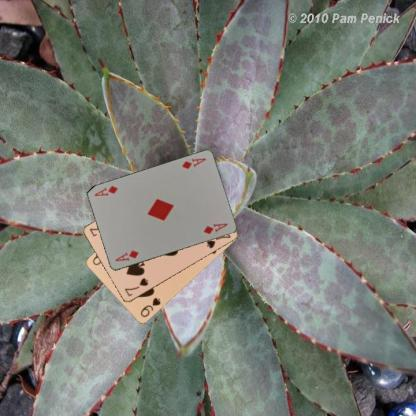7s: (122, 276, 149, 298)
9s: (137, 295, 162, 319)
Ad: (112, 248, 140, 263), (179, 156, 207, 170)
